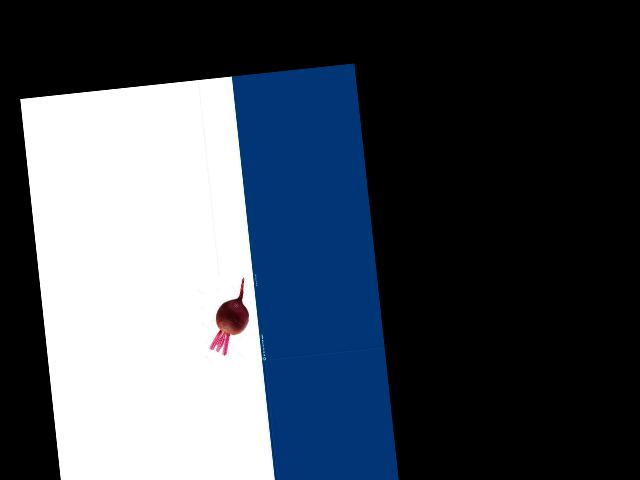beet: (203, 278, 252, 356)
